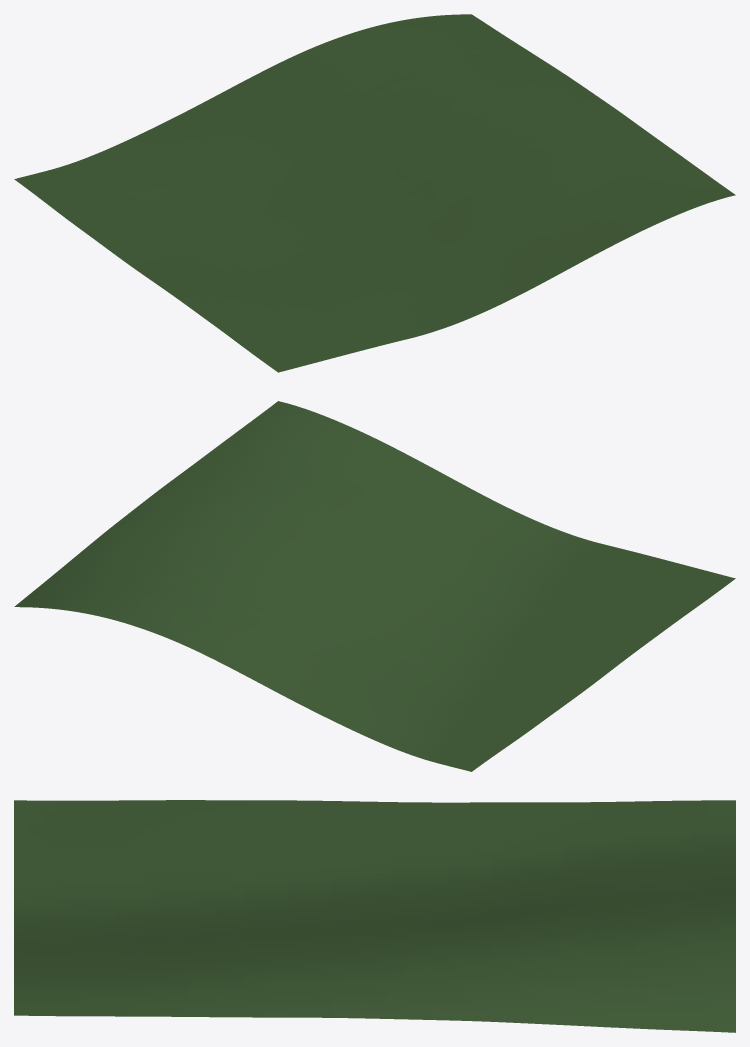
File: chunk0-4_LOD0.obj
The picture shows the model from 3 angles, top to bottom: view 1: azimuth 30°, elevation 25°; view 2: azimuth 150°, elevation 25°; view 3: azimuth 270°, elevation 25°; orthographic projection. The views are drawn at different scales.
Parts seen in each view (by area): view 1: Terrain; view 2: Terrain; view 3: Terrain.
Part boxes in pixels (box(x1,y1,x2,y2)): Terrain: box(14, 14, 735, 372); Terrain: box(14, 401, 735, 771); Terrain: box(14, 800, 735, 1032).
Bounding box in the file's own units: 4000 × 566 × 4000.
